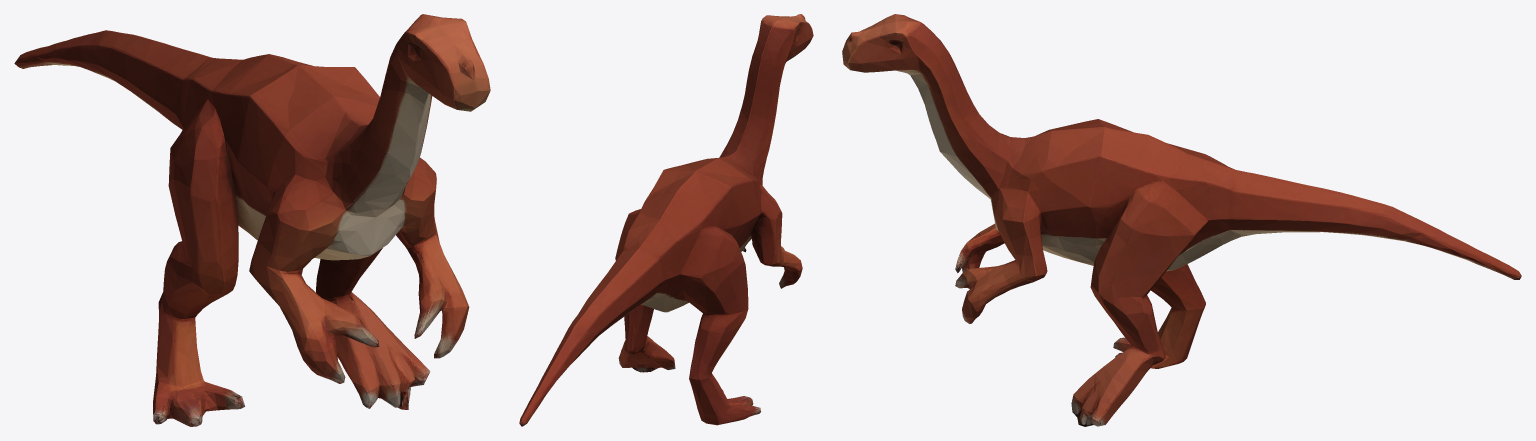
The model's file is plateosaurus.glb.
3 views of the same model, side by side, from view 1: azimuth 30°, elevation 25°; view 2: azimuth 150°, elevation 25°; view 3: azimuth 270°, elevation 25° (orthographic). The views are drawn at different scales.
Parts seen in each view (by area): view 1: geometry_0; view 2: geometry_0; view 3: geometry_0.
Part boxes in pixels (box(x1,y1,x2,y2)): geometry_0: box(14, 14, 490, 426); geometry_0: box(519, 14, 813, 426); geometry_0: box(842, 14, 1521, 426).
Bounding box in the file's own units: 0.3198 × 0.604 × 1.
Materials: 1 (1 with a texture image).
